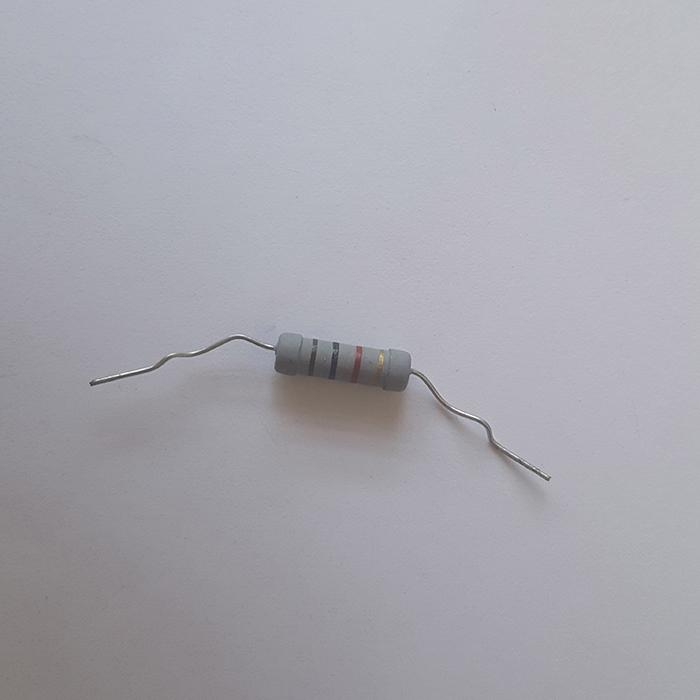resistor: (271, 331, 415, 392)
